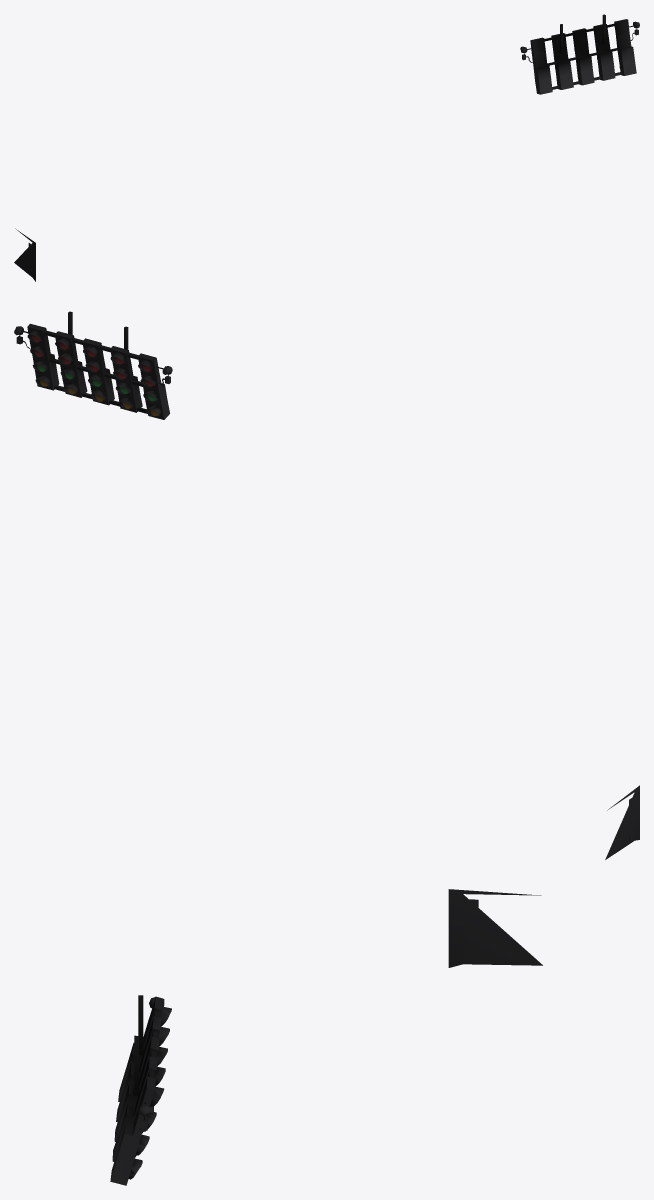
The model's file is bahrain_startlights.glb.
The picture shows the model from 3 angles, top to bottom: view 1: azimuth 30°, elevation 25°; view 2: azimuth 150°, elevation 25°; view 3: azimuth 270°, elevation 25°; orthographic projection. The views are drawn at different scales.
Parts seen in each view (by area): view 1: startlight_housing; view 2: startlight_housing; view 3: startlight_housing.
Part boxes in pixels (x1,y1,x2,y2): startlight_housing: [14, 14, 639, 281]; startlight_housing: [14, 311, 639, 859]; startlight_housing: [110, 889, 542, 1185].
Size of the model in its own units: 13.32 by 4.94 by 4.73.
